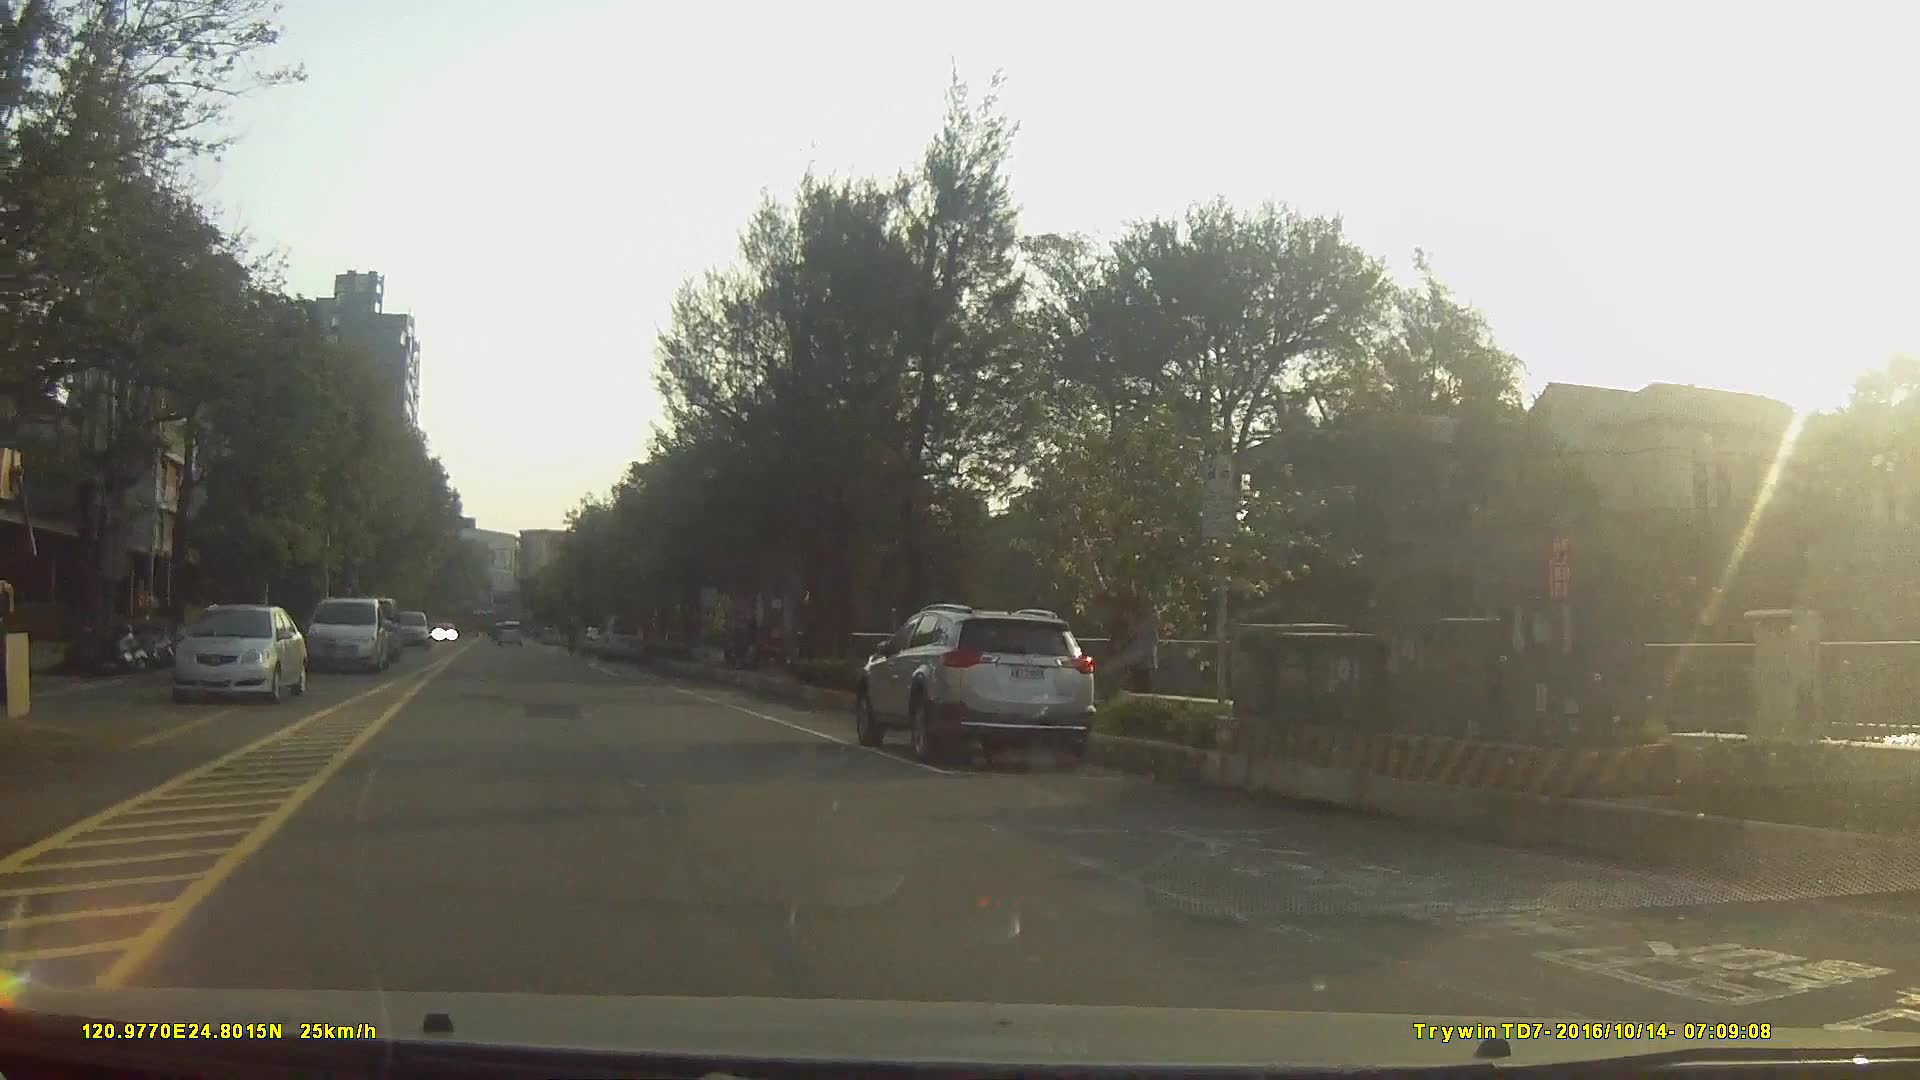vehicle: (856, 599, 1093, 765), (170, 603, 305, 702), (309, 596, 392, 674), (596, 617, 645, 662), (386, 607, 429, 651)
